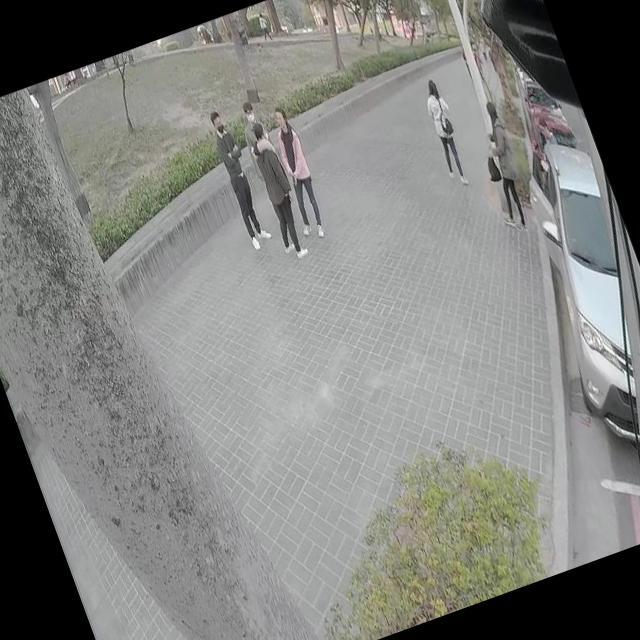person: (204, 106, 274, 251), (241, 121, 311, 259), (470, 99, 539, 232), (266, 103, 332, 241), (418, 78, 476, 186), (233, 98, 260, 134), (254, 11, 274, 44)
